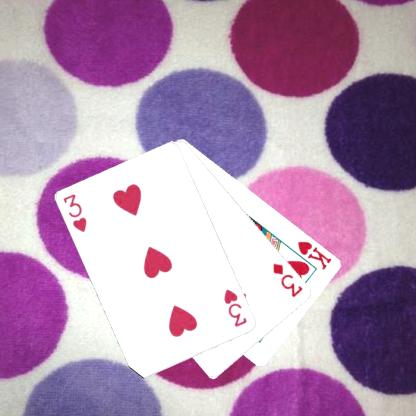3D: (270, 260, 305, 299)
3H: (221, 286, 249, 328), (61, 192, 88, 234)
KH: (295, 238, 333, 271)
